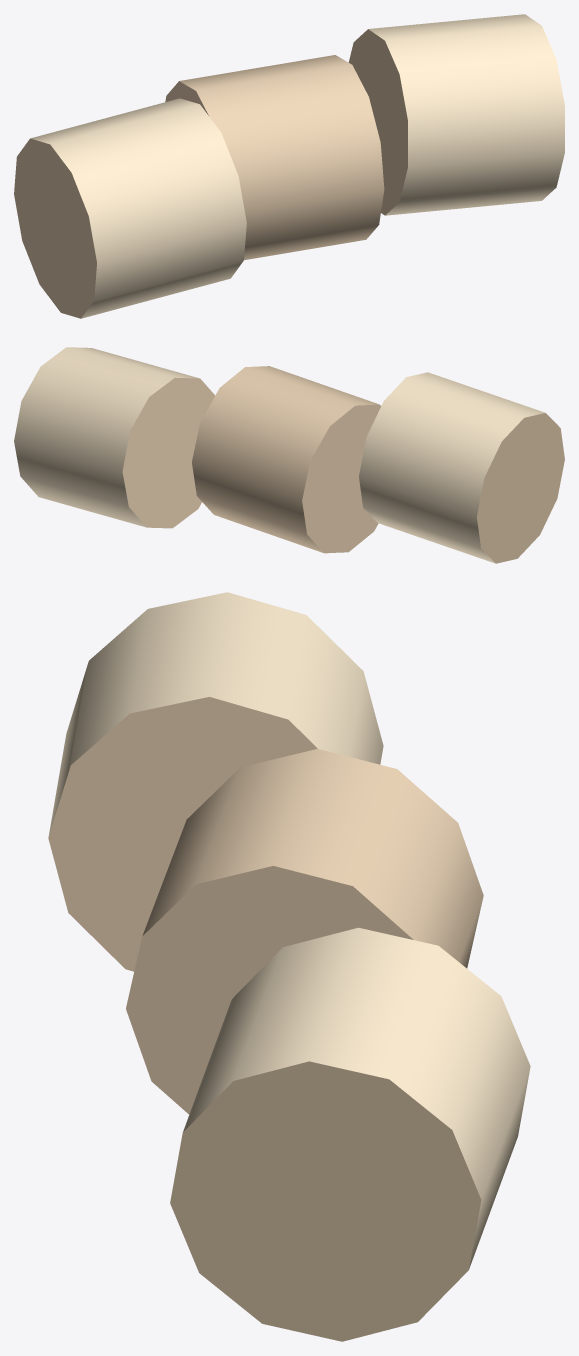
Rendered from prop_drum_fallen.glb.
The picture shows the model from 3 angles, top to bottom: view 1: azimuth 30°, elevation 25°; view 2: azimuth 150°, elevation 25°; view 3: azimuth 270°, elevation 25°; orthographic projection. The views are drawn at different scales.
Visible parts, largest first — view 1: prop_drum_fallen; view 2: prop_drum_fallen; view 3: prop_drum_fallen.
Boxes of the visible parts, x1=… form: prop_drum_fallen: x1=14, y1=14, x2=564, y2=318; prop_drum_fallen: x1=14, y1=347, x2=564, y2=563; prop_drum_fallen: x1=48, y1=592, x2=530, y2=1341.
Bounding box in the file's own units: 3.65 × 1.34 × 1.7.
